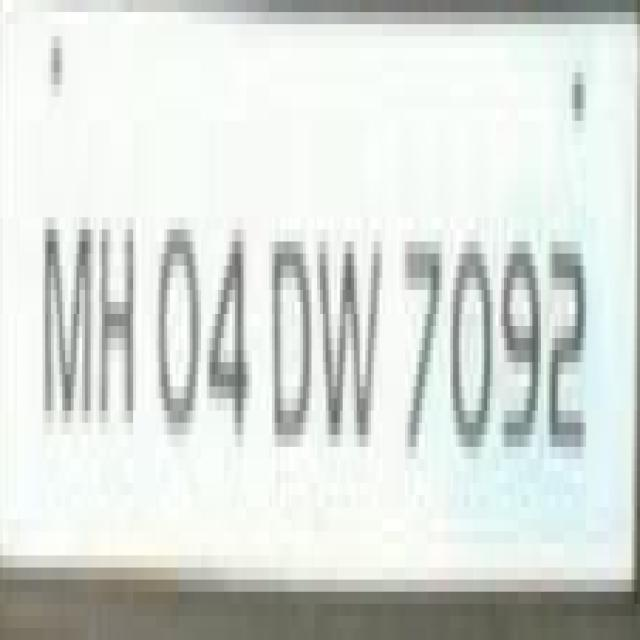license_plate: (0, 0, 609, 628)
